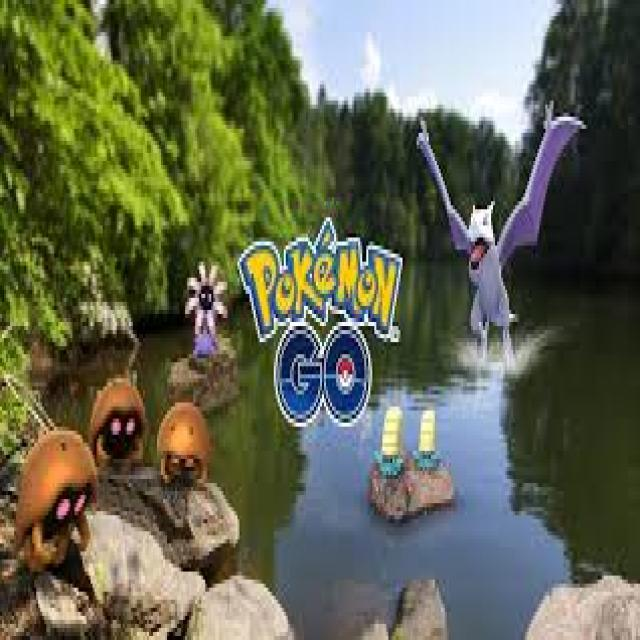Aerodactyl: (443, 186, 540, 352)
Kakuna: (16, 430, 95, 562), (90, 376, 146, 467), (158, 403, 210, 482)
Omanyte: (376, 403, 407, 481), (415, 403, 439, 477)
